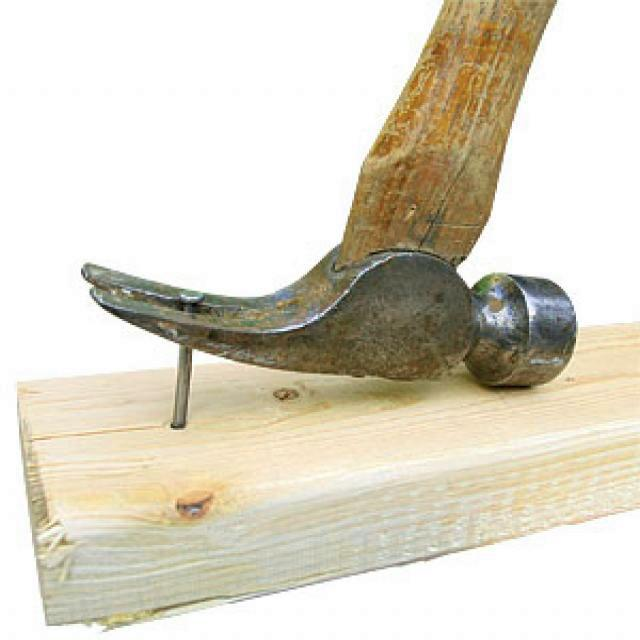hammer: (74, 0, 596, 400)
